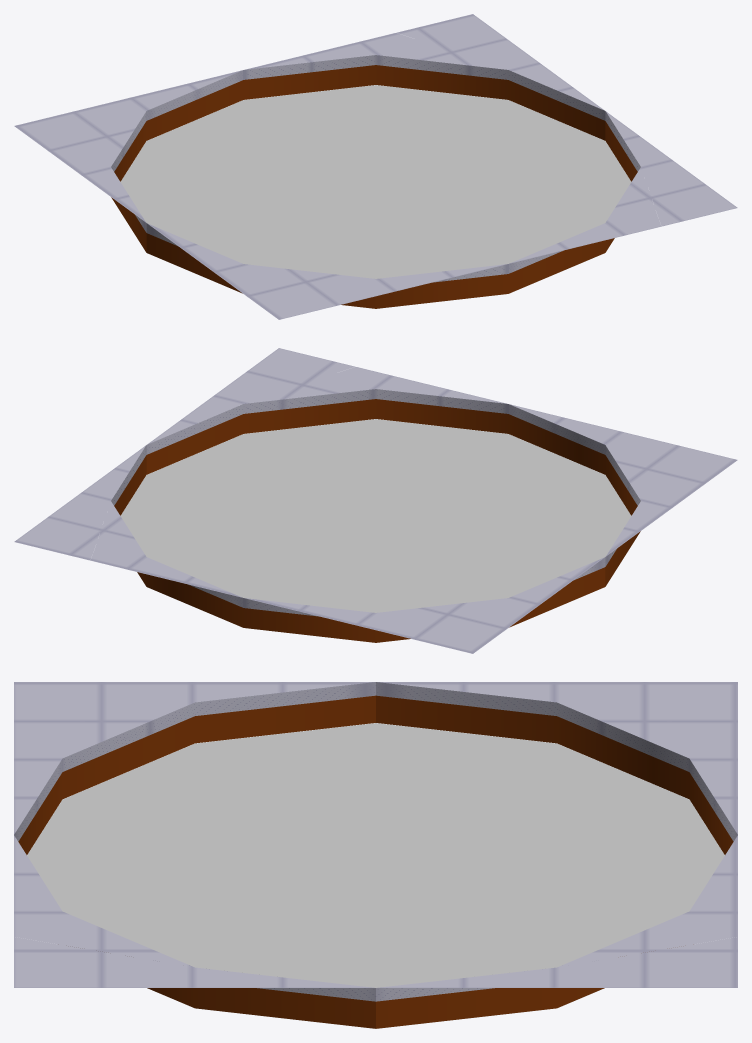
Rendered from water_4.dae.
3 views of the same model, one above another, from view 1: azimuth 30°, elevation 25°; view 2: azimuth 150°, elevation 25°; view 3: azimuth 270°, elevation 25° (orthographic). The views are drawn at different scales.
Visible parts, largest first — view 1: Regroup14, Regroup12, Regroup15, Regroup13; view 2: Regroup14, Regroup12, Regroup15, Regroup13; view 3: Regroup14, Regroup12, Regroup15, Regroup13.
Part boxes in pixels (left/top/right/bottom): Regroup14: left=120, top=85, right=630, bottom=308; Regroup12: left=14, top=14, right=737, bottom=319; Regroup15: left=111, top=65, right=637, bottom=308; Regroup13: left=111, top=55, right=640, bottom=282; Regroup14: left=121, top=419, right=631, bottom=642; Regroup12: left=14, top=348, right=737, bottom=653; Regroup15: left=114, top=399, right=640, bottom=642; Regroup13: left=111, top=389, right=640, bottom=616; Regroup14: left=27, top=723, right=724, bottom=1028; Regroup12: left=14, top=682, right=737, bottom=987; Regroup15: left=18, top=695, right=733, bottom=1028; Regroup13: left=14, top=682, right=737, bottom=1001.
Bounding box in the file's own units: 16 × 1 × 16.
